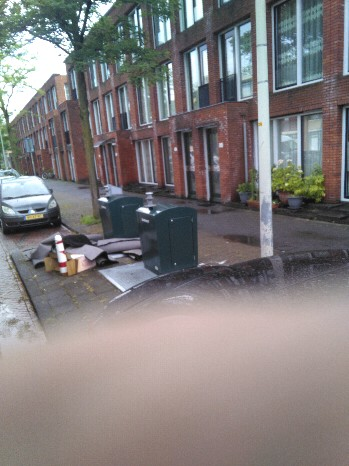Container: (141, 207, 204, 270), (99, 188, 140, 231)
Rest: (41, 239, 145, 263)
Voertuig: (4, 175, 51, 228)
